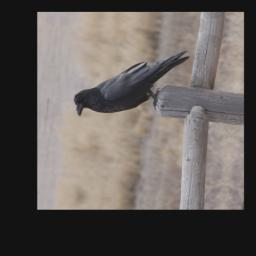Crow: (70, 39, 192, 126)
